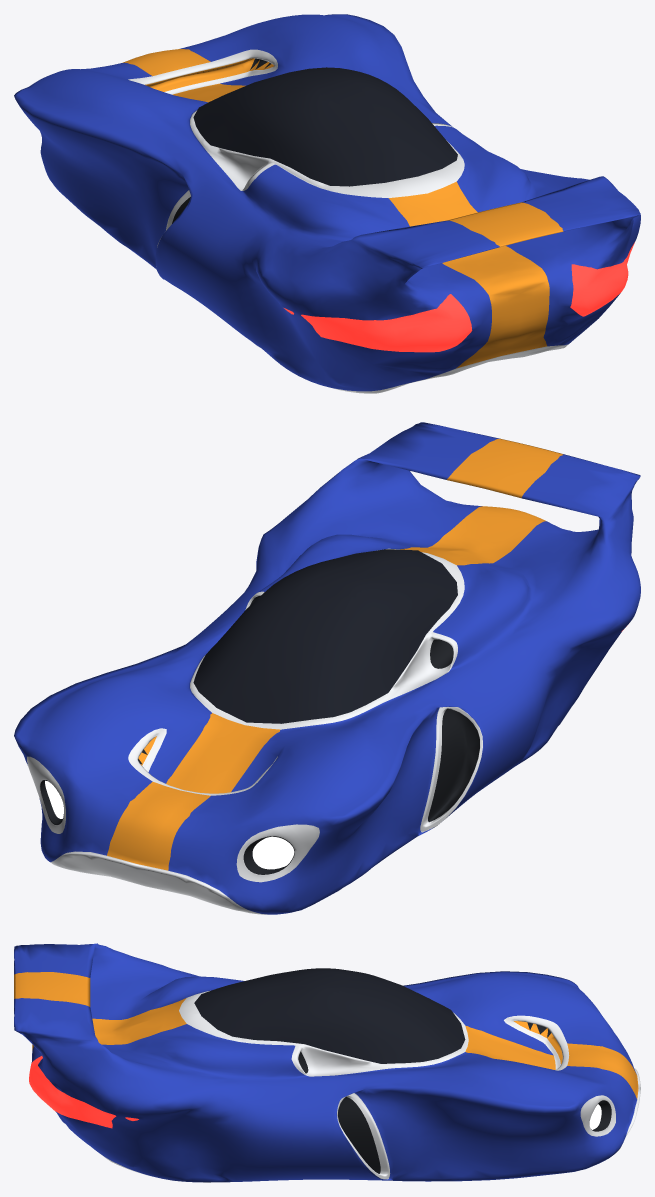
Rendered from w2-cobra.glb.
The picture shows the model from 3 angles, top to bottom: view 1: azimuth 30°, elevation 25°; view 2: azimuth 150°, elevation 25°; view 3: azimuth 270°, elevation 25°; orthographic projection. The views are drawn at different scales.
Parts seen in each view (by area): view 1: Body.001, Canopy; view 2: Body.001, Canopy; view 3: Body.001, Canopy.
Part boxes in pixels (x1,y1,x2,y2): Body.001: (14,14,640,393); Canopy: (193,67,457,186); Body.001: (14,422,640,914); Canopy: (193,549,457,723); Body.001: (14,943,640,1182); Canopy: (194,968,465,1063).
Size of the model in its own units: 2.06 by 1.12 by 4.01.
